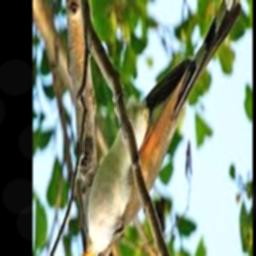Cuckoo: (76, 0, 242, 256)
